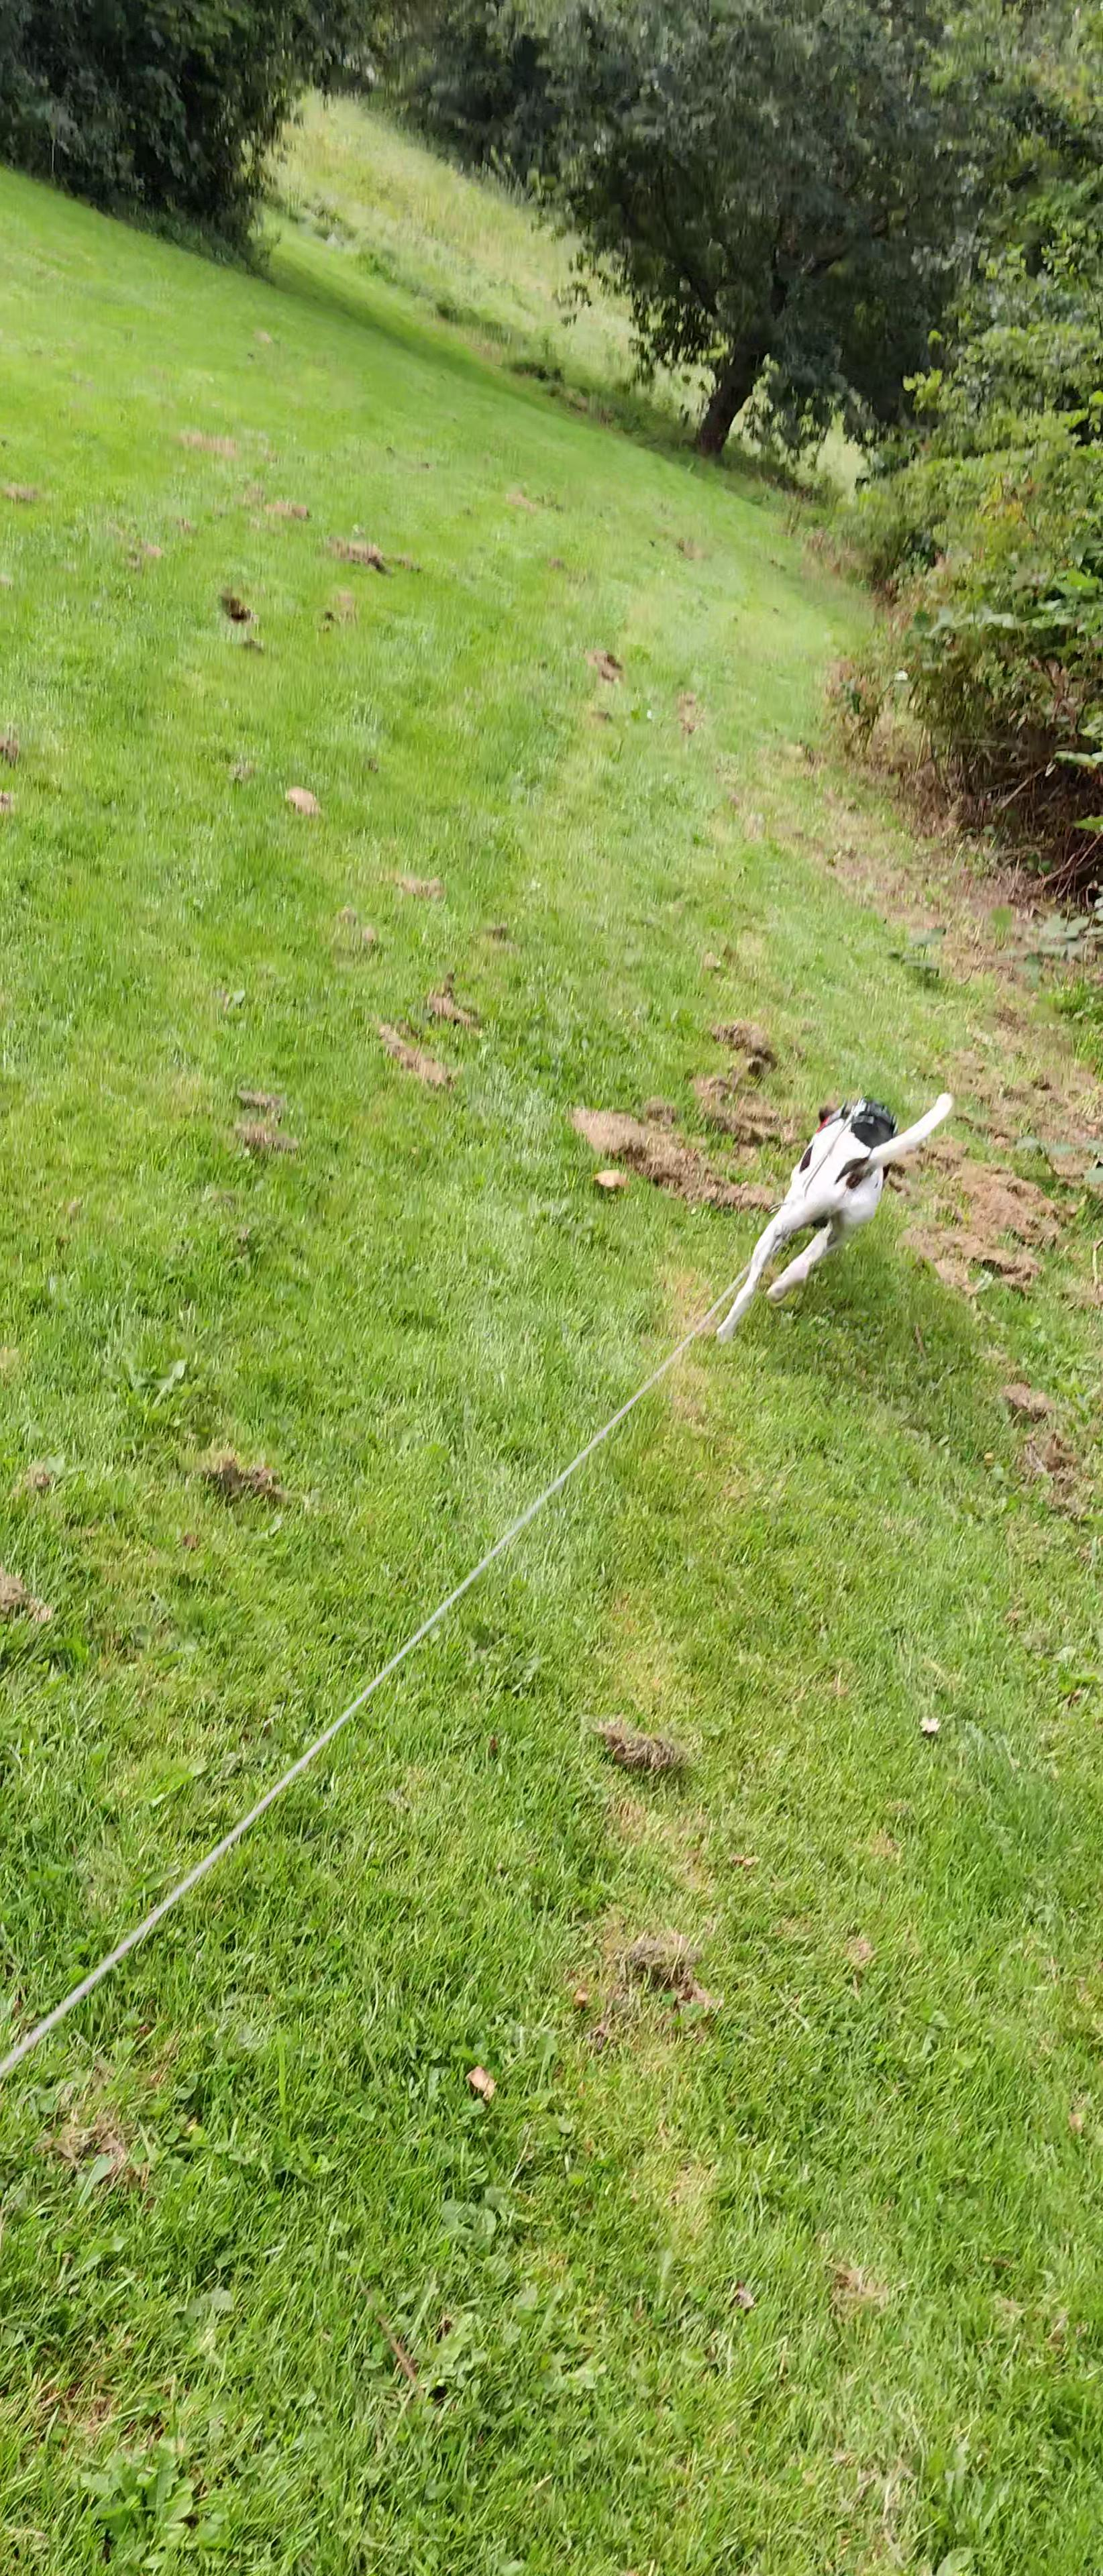Dog: (695, 1073, 978, 1352)
